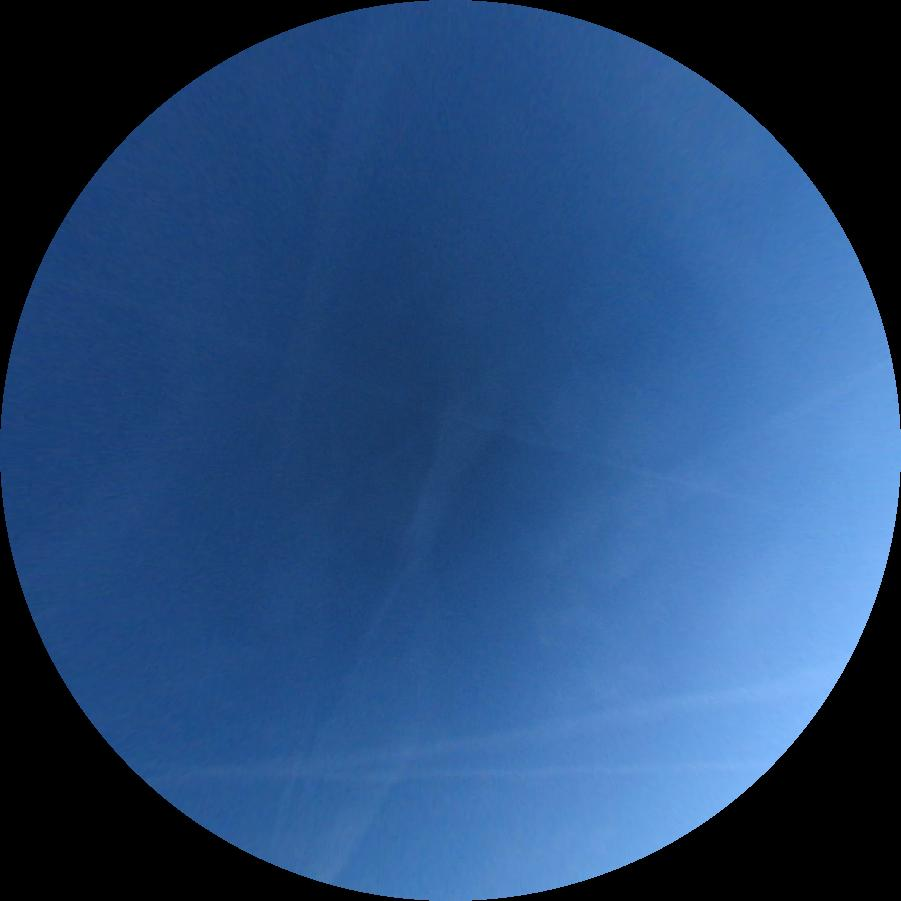contrail old: (524, 359, 887, 566)
contrail veryold: (47, 266, 788, 518), (265, 345, 504, 884), (244, 8, 408, 535), (137, 672, 832, 795), (146, 758, 773, 793)
